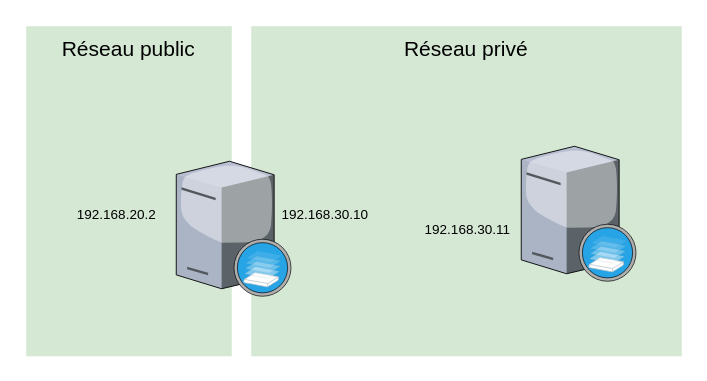
Some shapes in this 707 by 381 pixel diagram are drawn without their labels. Here are the shapes that lost their labels. From the top down, the centre of each, then its label:
[233,228]: conteneur : rp1
[577,213]: conteneur : web1
